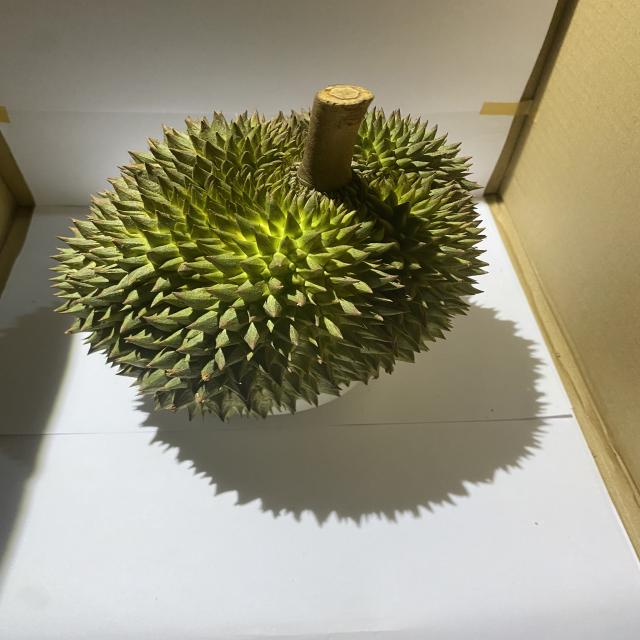immature: (53, 105, 490, 424)
